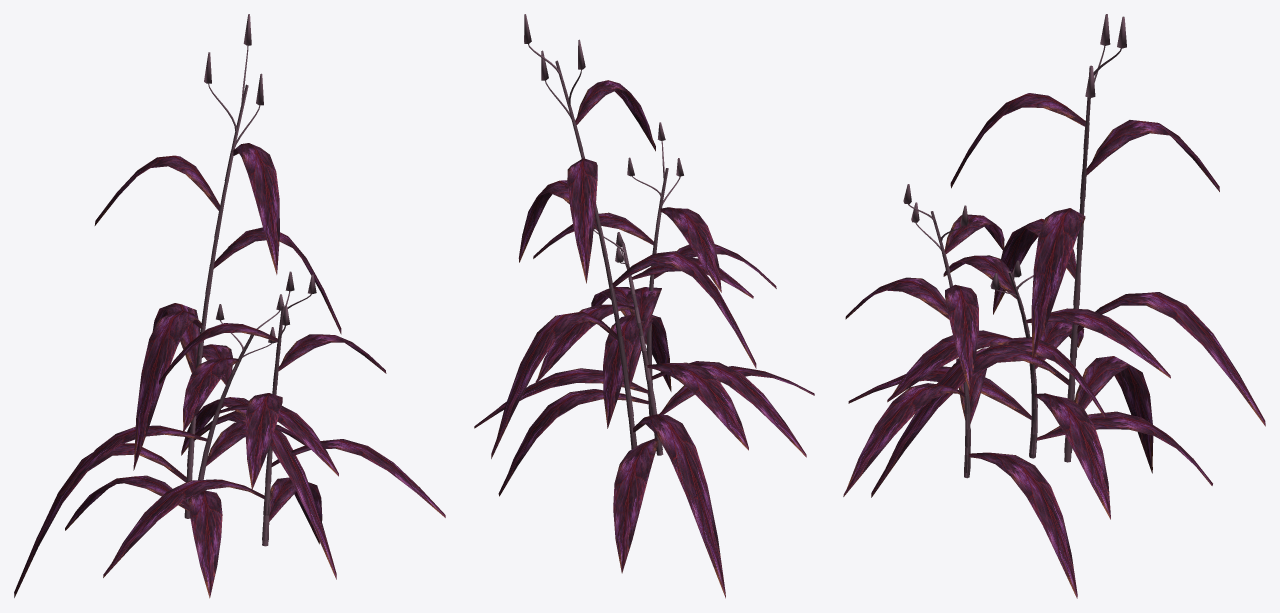
The model's file is finegrass_04.glb.
3 renders of one model, left to right at view 1: azimuth 30°, elevation 25°; view 2: azimuth 150°, elevation 25°; view 3: azimuth 270°, elevation 25°, orthographic. The views are drawn at different scales.
Parts seen in each view (by area): view 1: export; view 2: export; view 3: export.
Part boxes in pixels (bbox=[...]): export: bbox=[14, 14, 445, 598]; export: bbox=[474, 14, 814, 598]; export: bbox=[843, 14, 1265, 598].
Size of the model in its own units: 0.8434 by 1.52 by 1.02.
2 materials, 2 textured.
